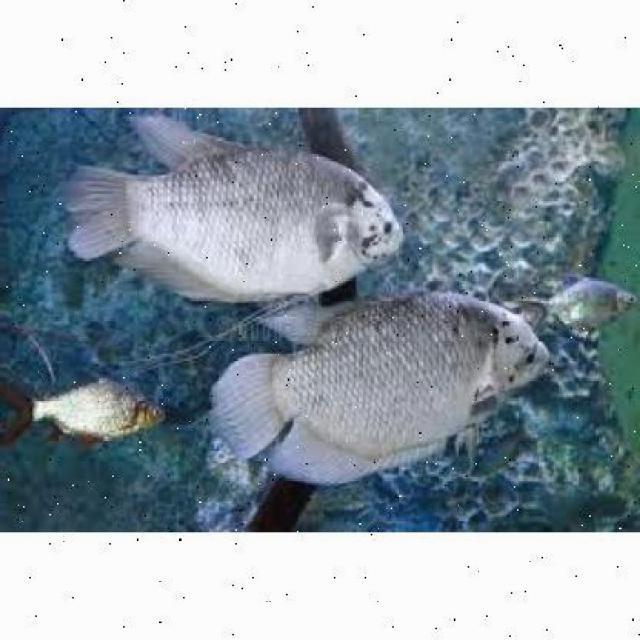gurame: (210, 289, 547, 489), (62, 133, 402, 304)
